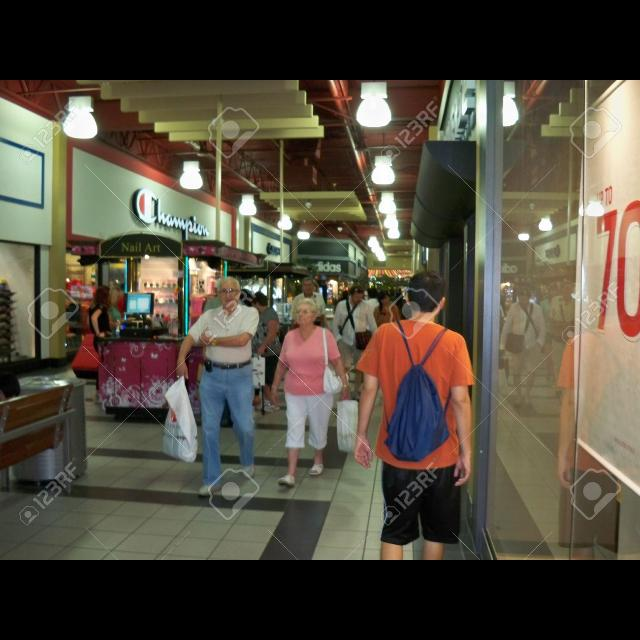head: (403, 270, 447, 316), (217, 277, 241, 309), (295, 300, 319, 328), (252, 292, 268, 314), (96, 286, 112, 304), (350, 285, 364, 305), (301, 277, 315, 295), (107, 288, 121, 304), (379, 292, 391, 306), (368, 288, 378, 298)
person: (158, 276, 264, 502), (270, 297, 364, 489), (332, 284, 378, 402), (242, 291, 282, 414), (288, 276, 328, 392), (95, 284, 129, 396), (86, 284, 116, 404), (358, 287, 388, 369), (373, 290, 401, 372)
